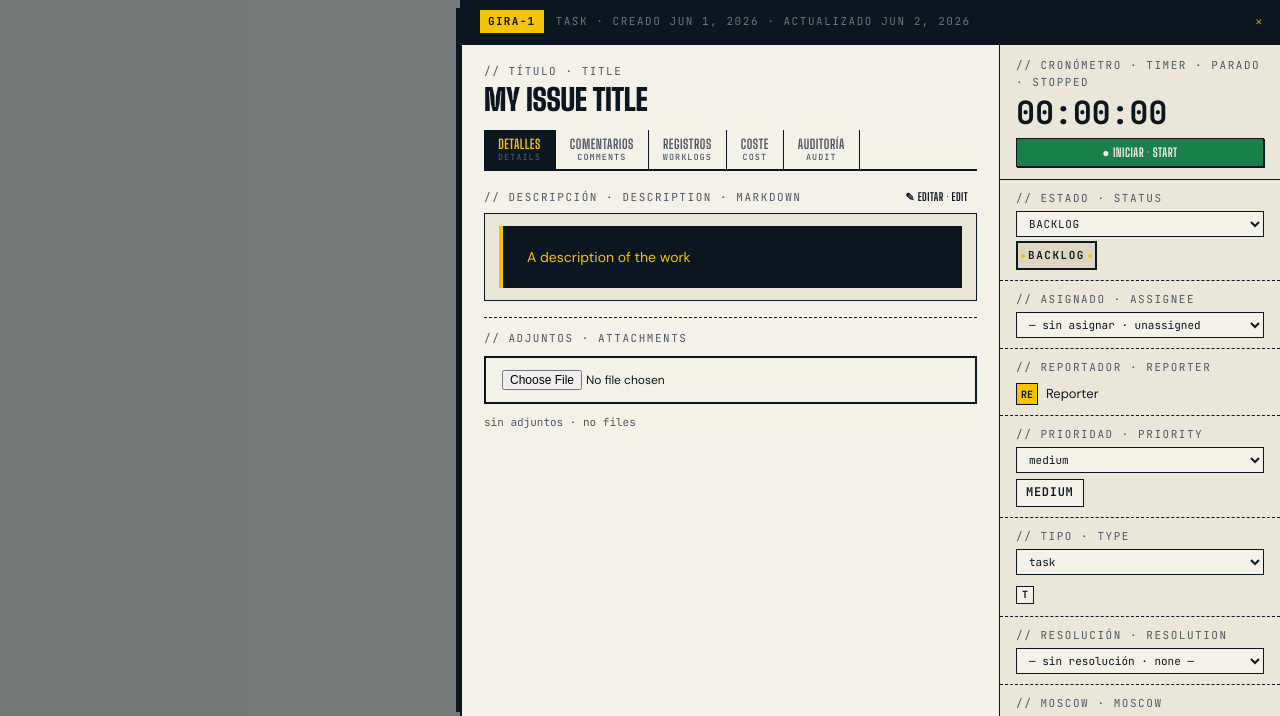
Test: IssueDrawer — coverage gaps › renders an em dash for a worklog row with an empty note
The width and height of the screenshot is (1280, 716).
Expected: the heading "My issue title" is shown, [484, 81, 648, 117]
Click the text "Registros" at (687, 144), box [663, 138, 712, 151]
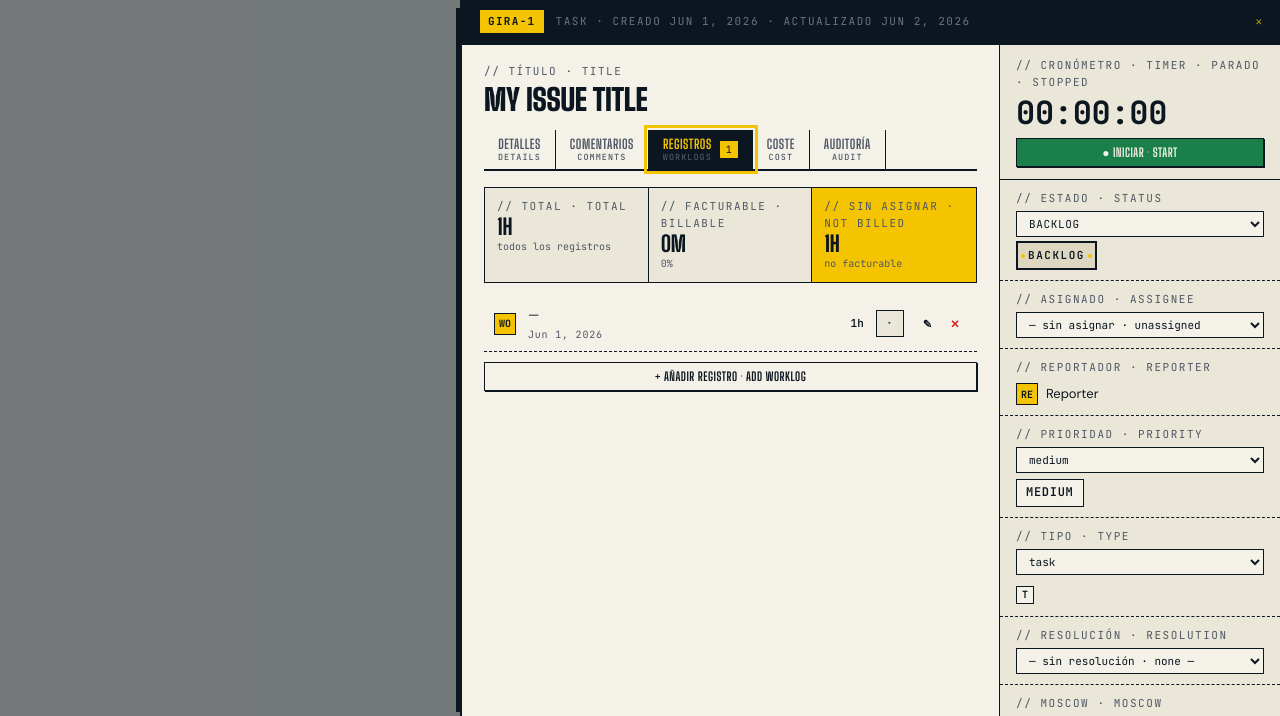
Result: the text "—" is shown at [528, 306, 539, 323]
